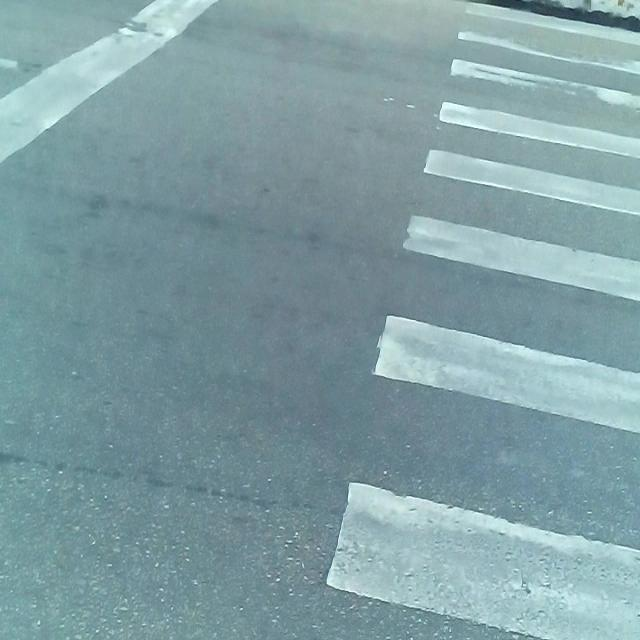crosswalk: (316, 1, 640, 640)
